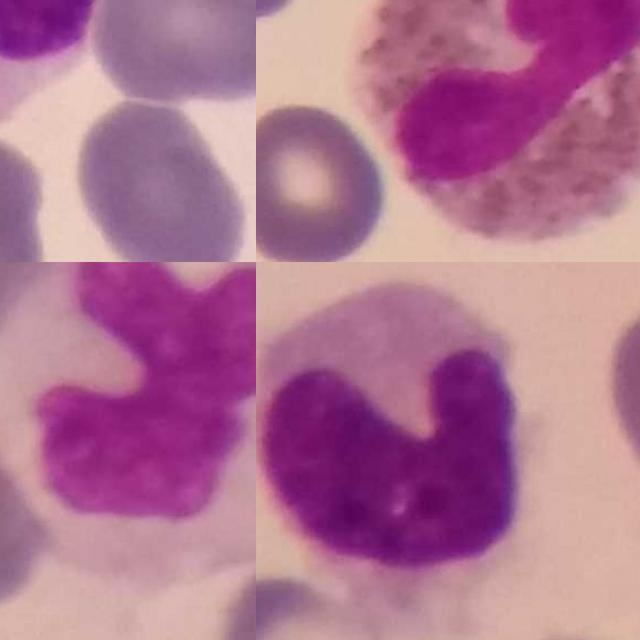Eosinophil: (346, 0, 640, 244)
Monocyte: (256, 274, 521, 569), (0, 262, 256, 563), (0, 0, 102, 136)
